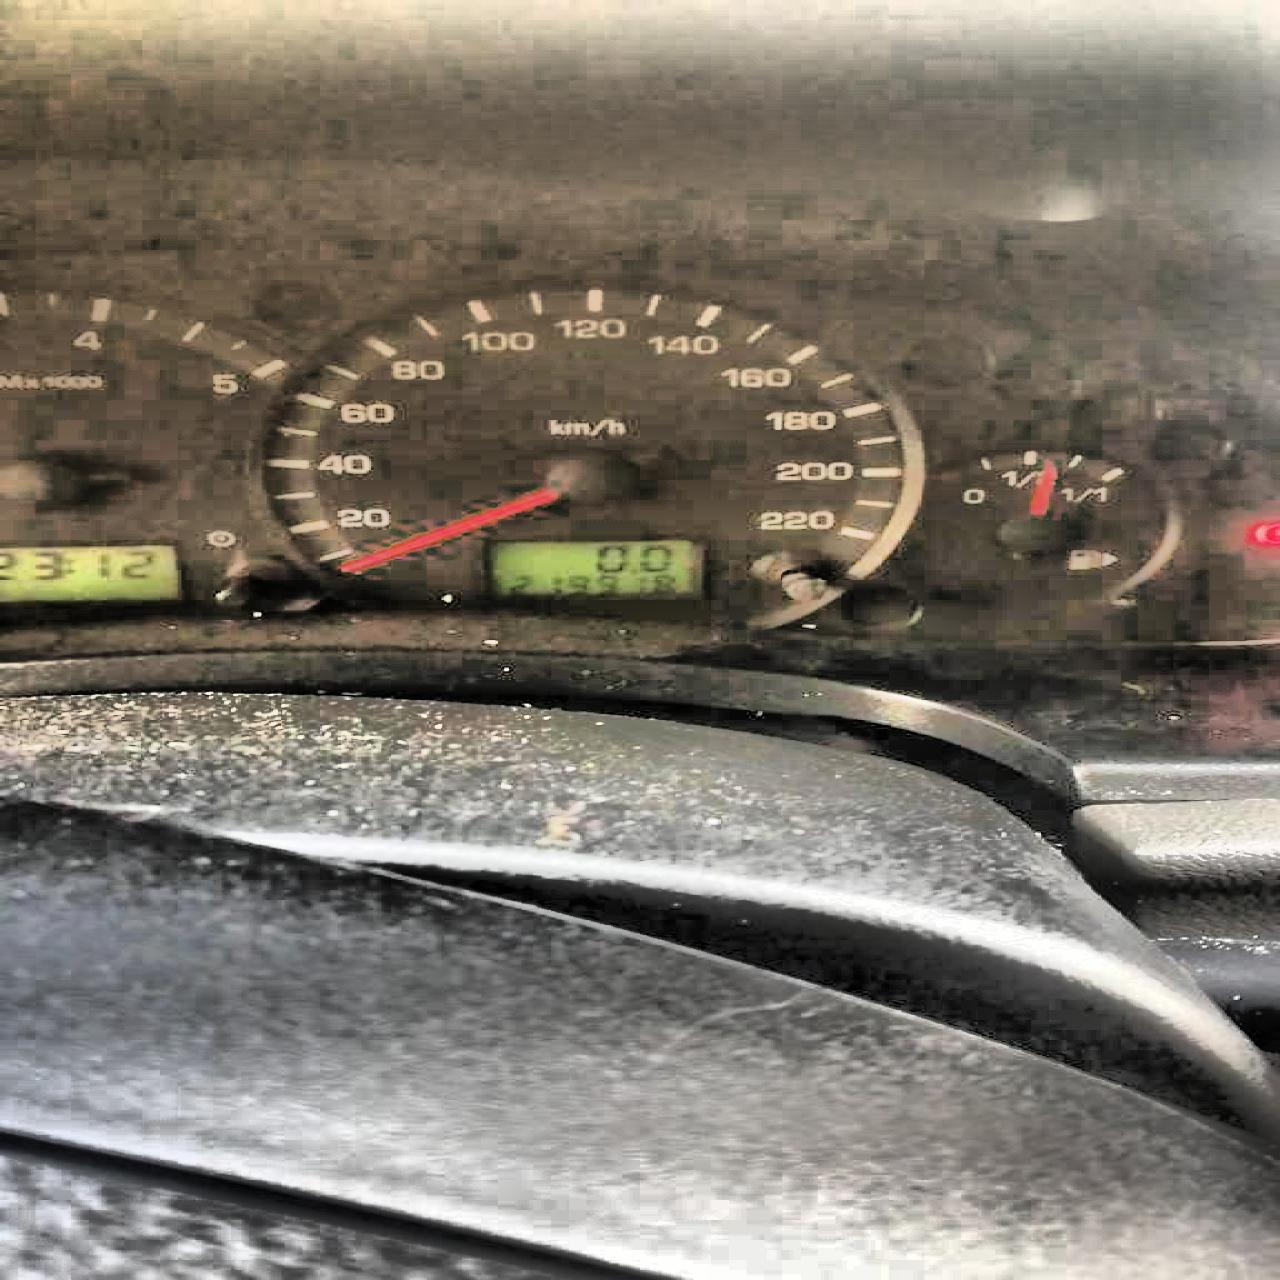-: (626, 566, 638, 572)
0: (593, 543, 627, 572), (640, 543, 673, 572)
1: (546, 573, 565, 595), (633, 573, 651, 595)
2: (504, 572, 533, 597)
8: (653, 572, 678, 597)
9: (595, 573, 620, 597), (567, 573, 591, 595)
odometer: (482, 535, 702, 598)
